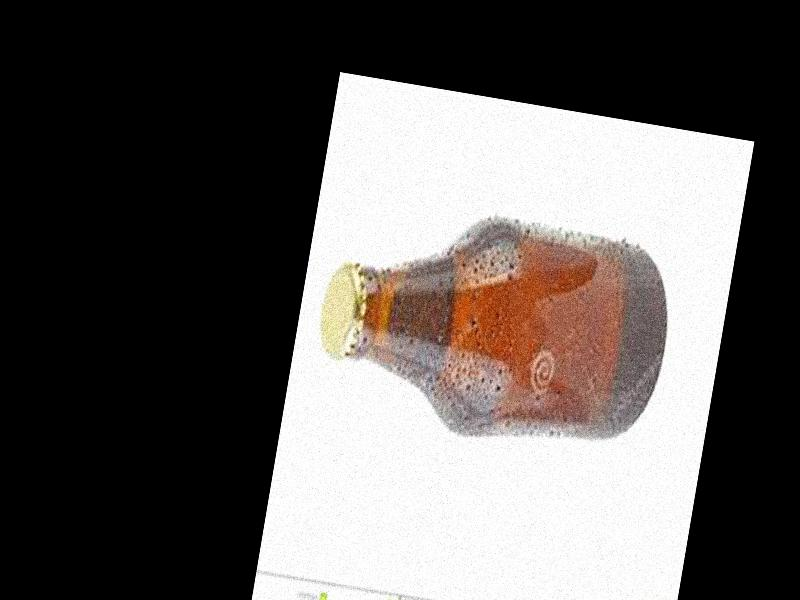Beer: (306, 190, 680, 464)
